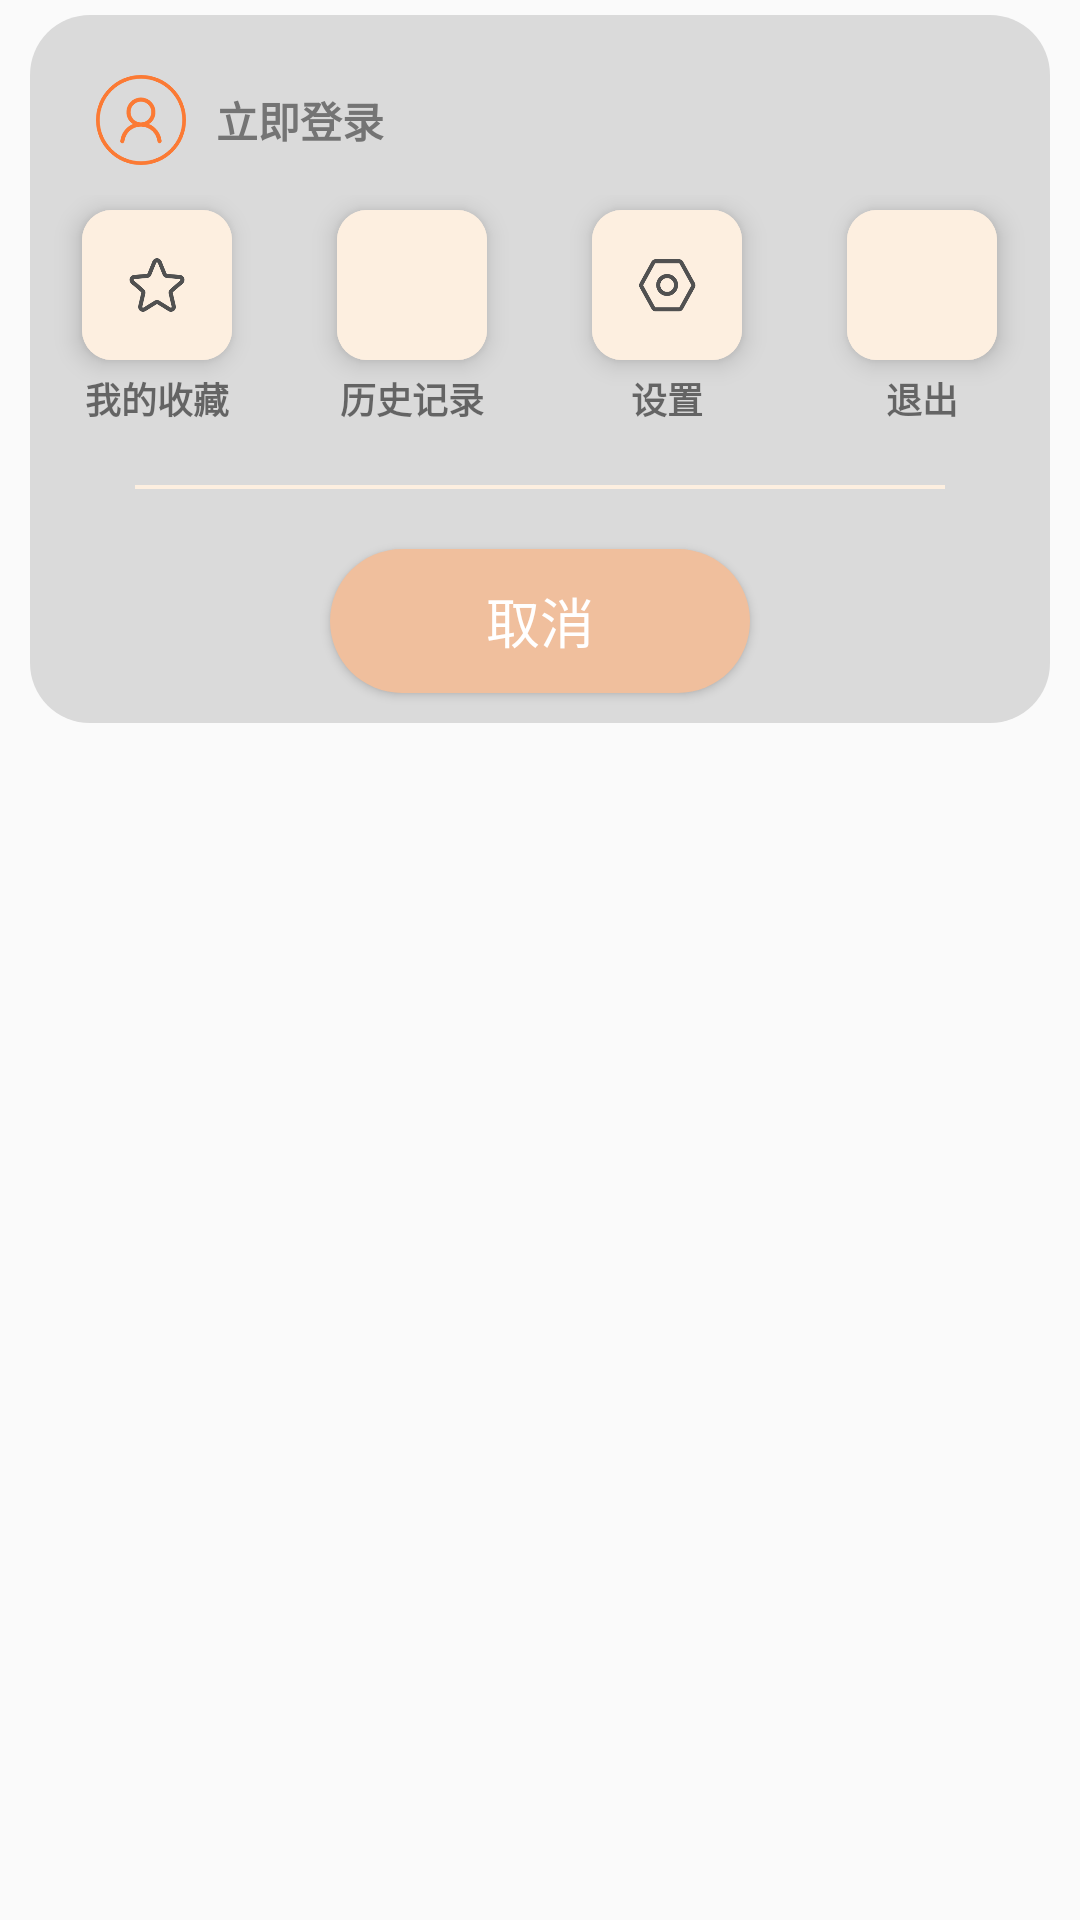

Screen size 1080 × 1920. Icon name, then its box in pixels as box=[x1, y1, x2, y2]:
user: box=[96, 75, 186, 165]
